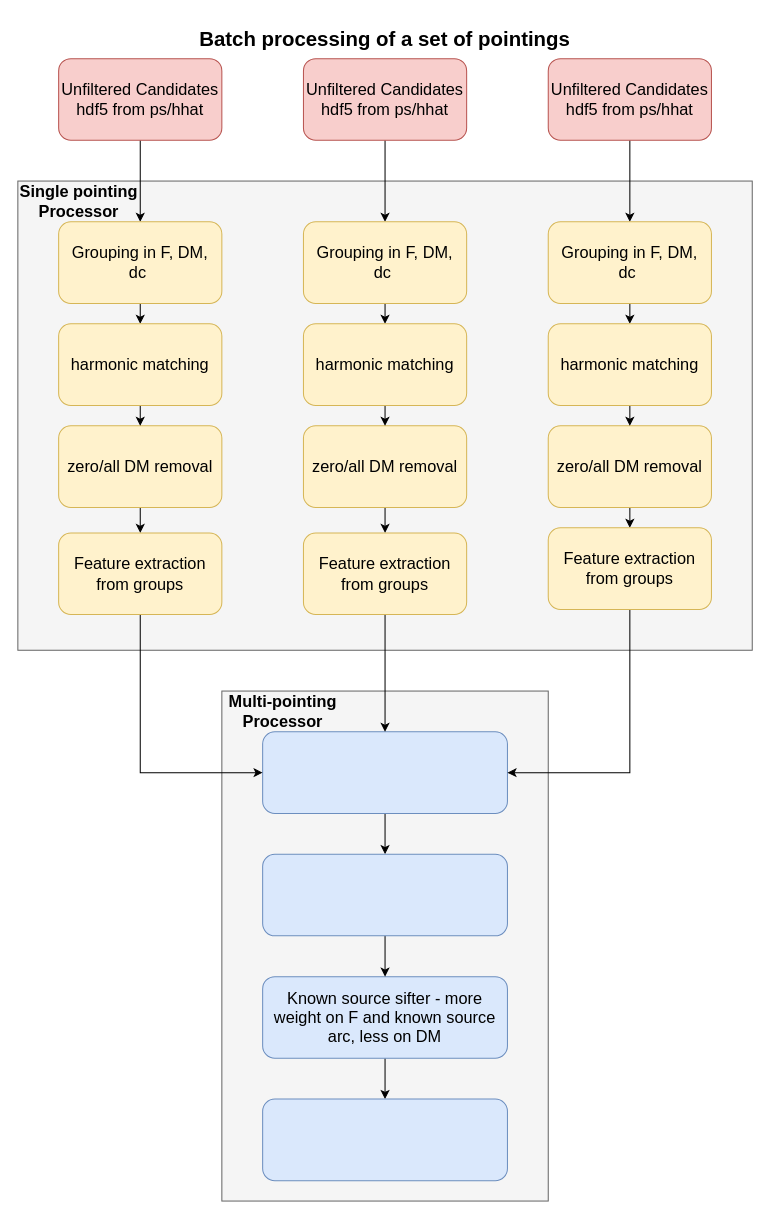
The diagram is 770 pixels wide and 1219 high, and some of its shapes have lost their labels. Each missing label, with the box of its shape:
Grouping between adjacent pointings: (262, 731, 507, 813)
ML to rank remaining candidates using group and position properties: (262, 1098, 507, 1181)
Position-based feature extraction: (262, 853, 507, 936)
